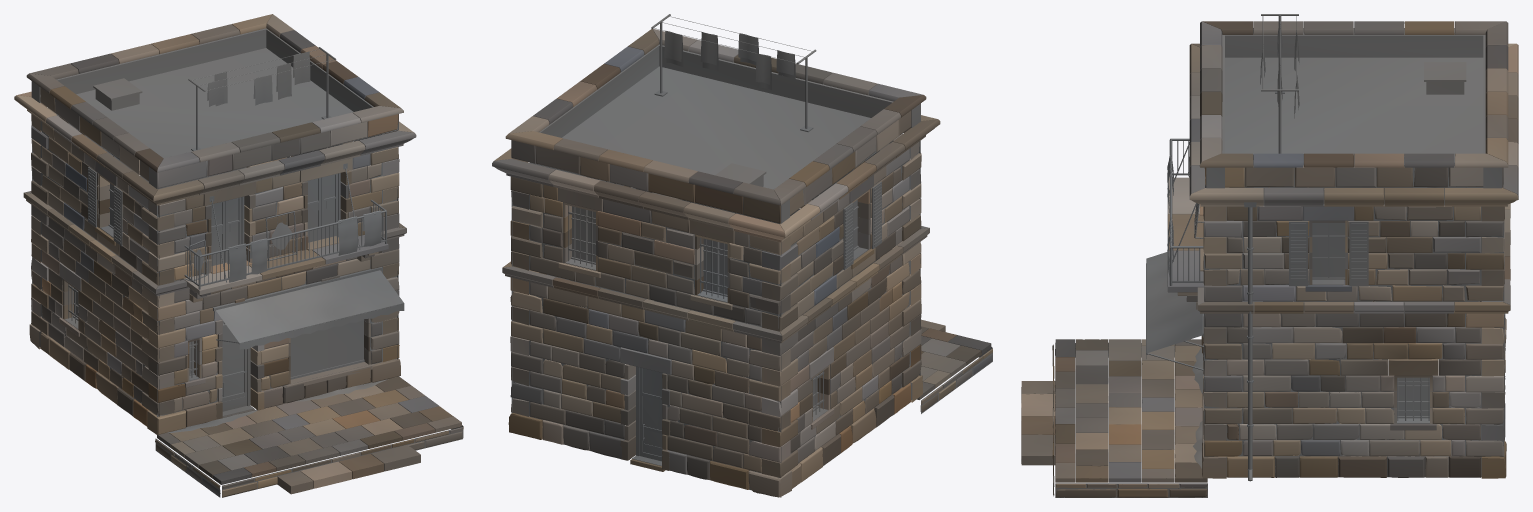
The model's file is ThreadHide_LOD0.glb.
3 renders of one model, left to right at view 1: azimuth 30°, elevation 25°; view 2: azimuth 150°, elevation 25°; view 3: azimuth 270°, elevation 25°, orthographic. The views are drawn at different scales.
Parts seen in each view (by area): view 1: ThreadHide_Masonry_LOD0, ThreadHide_Trim_LOD0, ThreadHide_Porch_LOD0, ThreadHide_Roof_LOD0, ThreadHide_Canvas_LOD0, ThreadHide_Metal_LOD0, ThreadHide_Glass_LOD0, ThreadHide_Display_LOD0, ThreadHide_Sand_LOD0; view 2: ThreadHide_Masonry_LOD0, ThreadHide_Trim_LOD0, ThreadHide_Roof_LOD0, ThreadHide_Metal_LOD0, ThreadHide_Porch_LOD0, ThreadHide_Canvas_LOD0, ThreadHide_Glass_LOD0, ThreadHide_Sand_LOD0; view 3: ThreadHide_Masonry_LOD0, ThreadHide_Trim_LOD0, ThreadHide_Porch_LOD0, ThreadHide_Roof_LOD0, ThreadHide_Metal_LOD0, ThreadHide_Canvas_LOD0, ThreadHide_Glass_LOD0, ThreadHide_Sand_LOD0.
Boxes of the visible parts, box(x1,y1,x2,y2) form: ThreadHide_Masonry_LOD0: box(29, 28, 400, 434); ThreadHide_Trim_LOD0: box(14, 14, 416, 419); ThreadHide_Porch_LOD0: box(155, 376, 463, 497); ThreadHide_Roof_LOD0: box(76, 48, 353, 158); ThreadHide_Canvas_LOD0: box(193, 51, 404, 349); ThreadHide_Metal_LOD0: box(68, 47, 403, 416); ThreadHide_Glass_LOD0: box(74, 137, 340, 397); ThreadHide_Display_LOD0: box(290, 319, 363, 377); ThreadHide_Sand_LOD0: box(65, 226, 387, 432); ThreadHide_Masonry_LOD0: box(508, 44, 922, 497); ThreadHide_Trim_LOD0: box(492, 29, 940, 470); ThreadHide_Roof_LOD0: box(562, 66, 870, 189); ThreadHide_Metal_LOD0: box(568, 14, 881, 465); ThreadHide_Porch_LOD0: box(630, 319, 992, 471); ThreadHide_Canvas_LOD0: box(664, 30, 795, 90); ThreadHide_Glass_LOD0: box(571, 174, 857, 406); ThreadHide_Sand_LOD0: box(566, 247, 868, 421); ThreadHide_Masonry_LOD0: box(1201, 28, 1506, 478); ThreadHide_Trim_LOD0: box(1167, 21, 1518, 443); ThreadHide_Porch_LOD0: box(1021, 339, 1207, 497); ThreadHide_Roof_LOD0: box(1225, 57, 1483, 157); ThreadHide_Metal_LOD0: box(1146, 14, 1483, 481); ThreadHide_Canvas_LOD0: box(1146, 22, 1299, 358); ThreadHide_Glass_LOD0: box(1312, 223, 1429, 416); ThreadHide_Sand_LOD0: box(1192, 279, 1429, 468).
Bounding box in the file's own units: 8.46 × 10.02 × 11.73.
